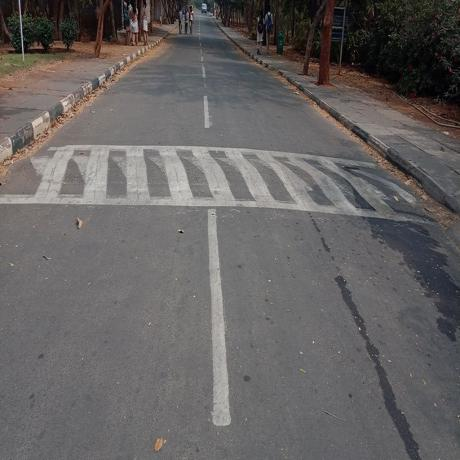Speed Bump: (18, 144, 446, 223)
